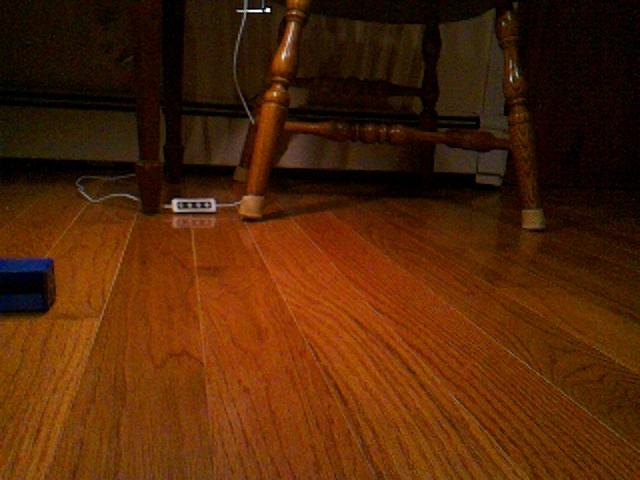blue: (1, 255, 57, 315)
